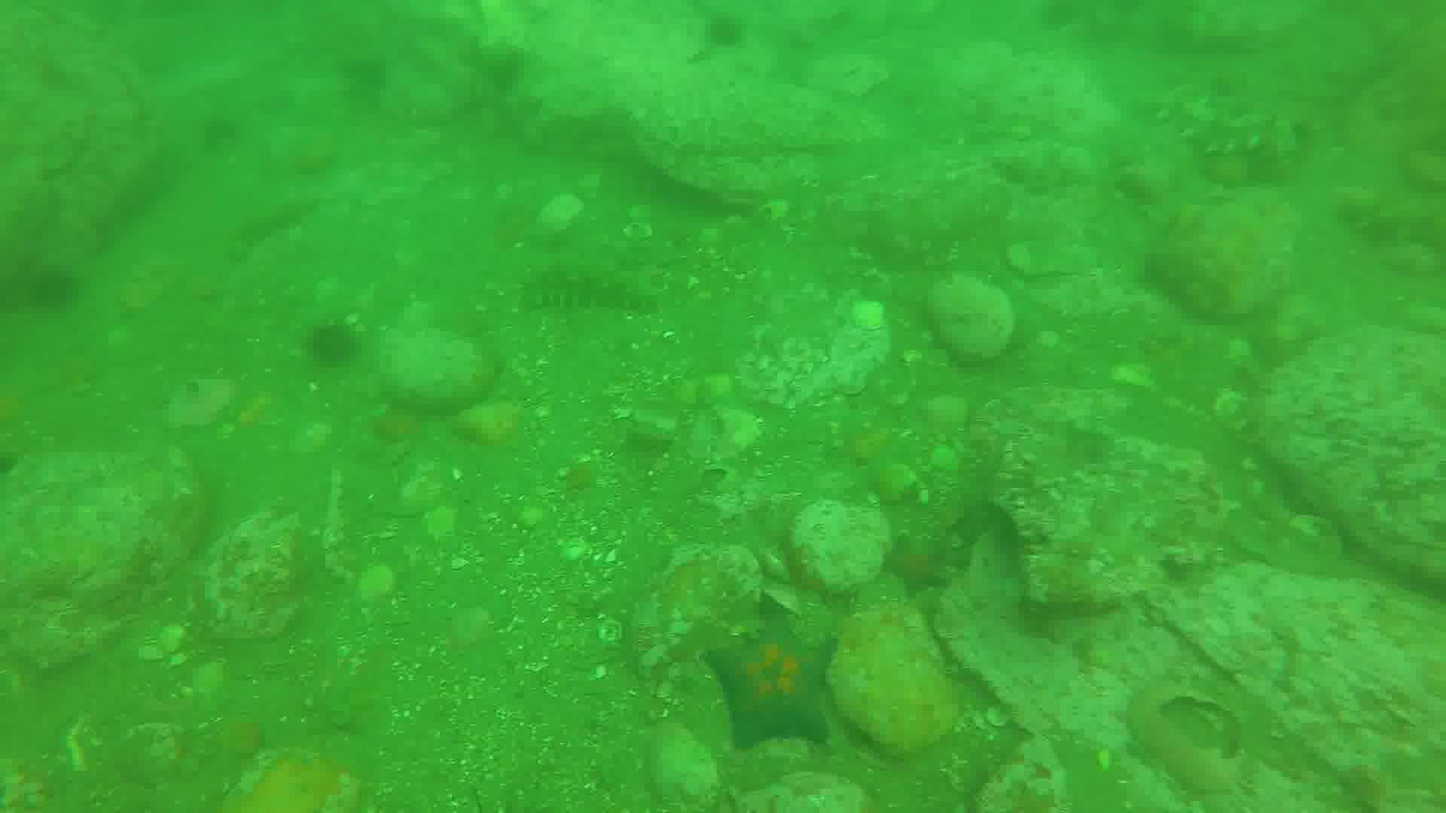echinus: (1164, 86, 1301, 160), (514, 263, 667, 315)
holothurian: (709, 605, 831, 752), (881, 535, 954, 596)
starfish: (310, 315, 368, 367), (26, 263, 87, 310)
